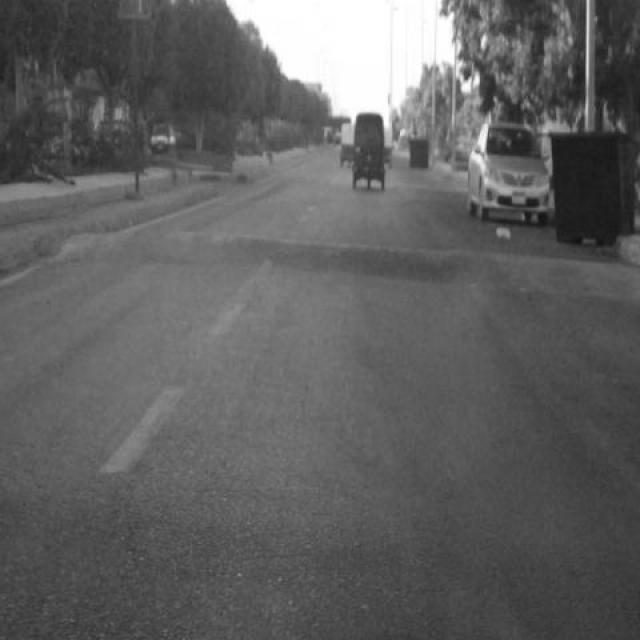Unmarked Bump: (65, 230, 640, 306)
